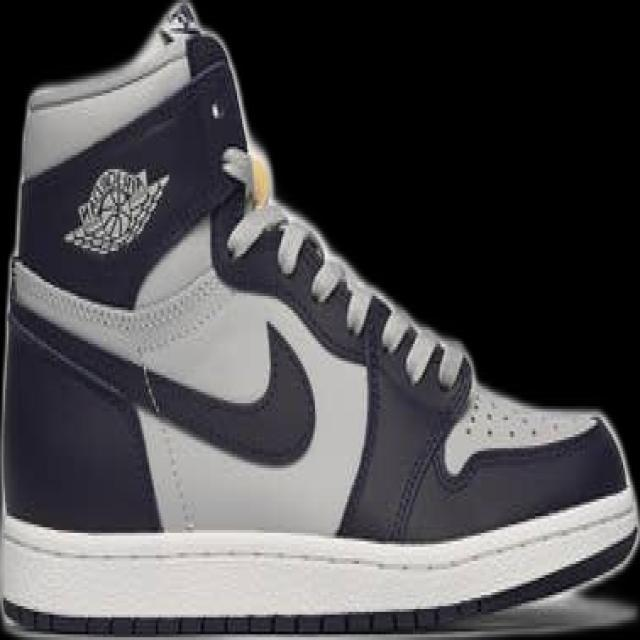J1_InsoleChar: (2, 2, 636, 634)
J1_ShoeLogo: (61, 165, 170, 256)
J1_StitchPattern: (255, 209, 599, 451), (272, 218, 470, 394), (9, 258, 232, 358), (5, 602, 462, 635), (135, 362, 200, 533), (377, 312, 466, 391), (156, 1, 204, 43)
